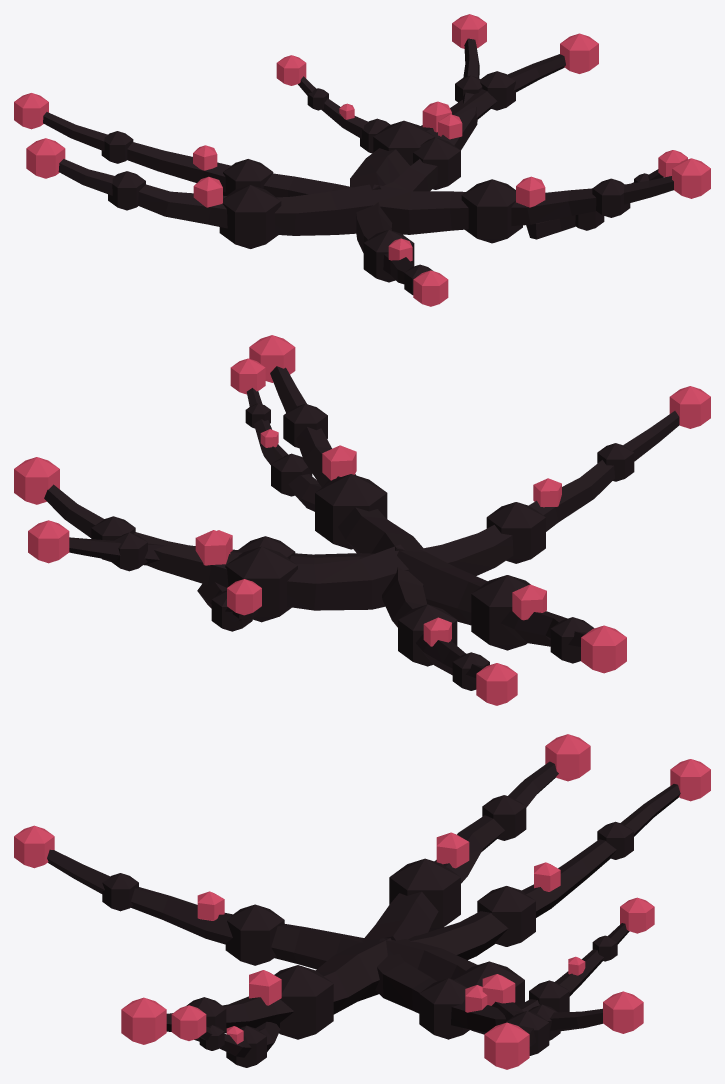
Rendered from Branch_Floor.fbx.
3 renders of one model, top to bottom at view 1: azimuth 30°, elevation 25°; view 2: azimuth 150°, elevation 25°; view 3: azimuth 270°, elevation 25°, orthographic. The views are drawn at different scales.
Parts seen in each view (by area): view 1: Branch_Floor; view 2: Branch_Floor; view 3: Branch_Floor.
Boxes of the visible parts, bbox=[...] form: Branch_Floor: bbox=[14, 14, 710, 306]; Branch_Floor: bbox=[14, 335, 710, 705]; Branch_Floor: bbox=[14, 734, 710, 1069].
Size of the model in its own units: 1.94 by 0.35 by 1.88.
